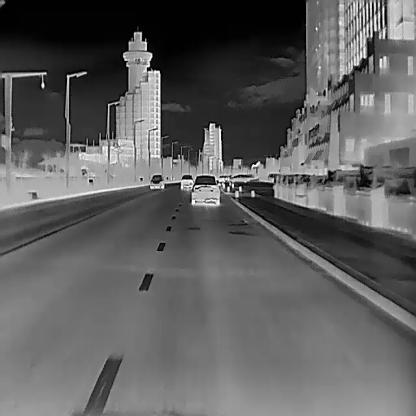car: (189, 173, 220, 208), (178, 173, 194, 189), (148, 173, 164, 188), (229, 173, 252, 182)
